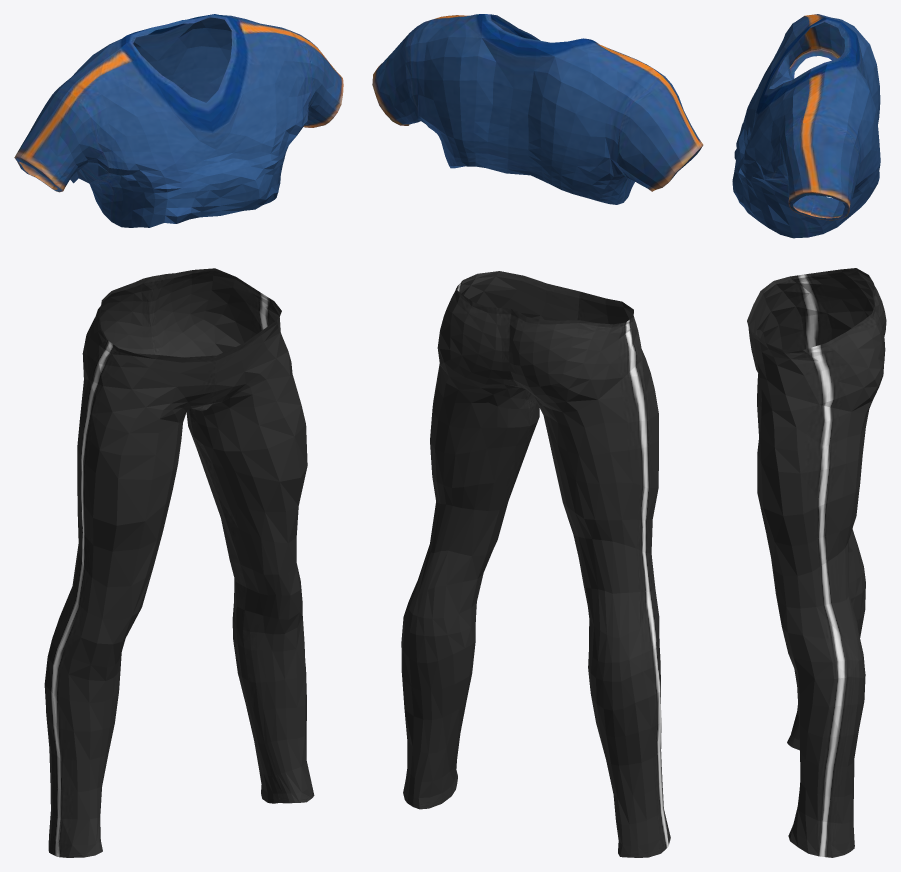
File: mhw_female_sportsuit01.glb
3 views of the same model, side by side, from view 1: azimuth 30°, elevation 25°; view 2: azimuth 150°, elevation 25°; view 3: azimuth 270°, elevation 25° (orthographic). The views are drawn at different scales.
Visible parts, largest first — view 1: mhw_female_sportsuit01; view 2: mhw_female_sportsuit01; view 3: mhw_female_sportsuit01.
Part boxes in pixels (<box>): mhw_female_sportsuit01: <box>14,14,343,857</box>; mhw_female_sportsuit01: <box>372,14,703,857</box>; mhw_female_sportsuit01: <box>732,14,886,857</box>.
Size of the model in its own units: 0.6341 by 1.51 by 0.2777.
Materials: 1 (1 with a texture image).
